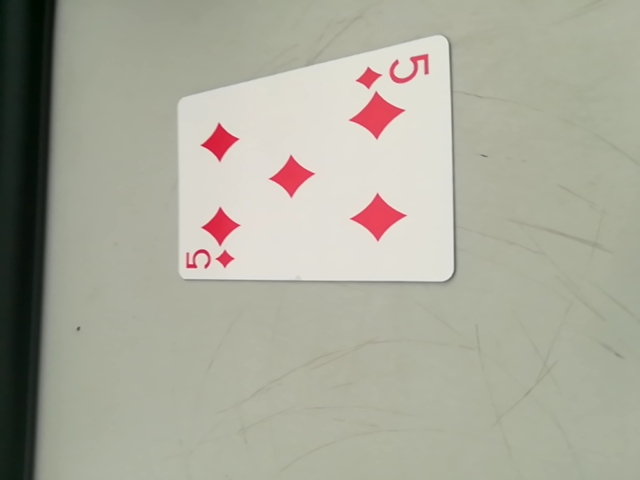fk 5: (355, 51, 432, 93), (183, 244, 239, 276)
